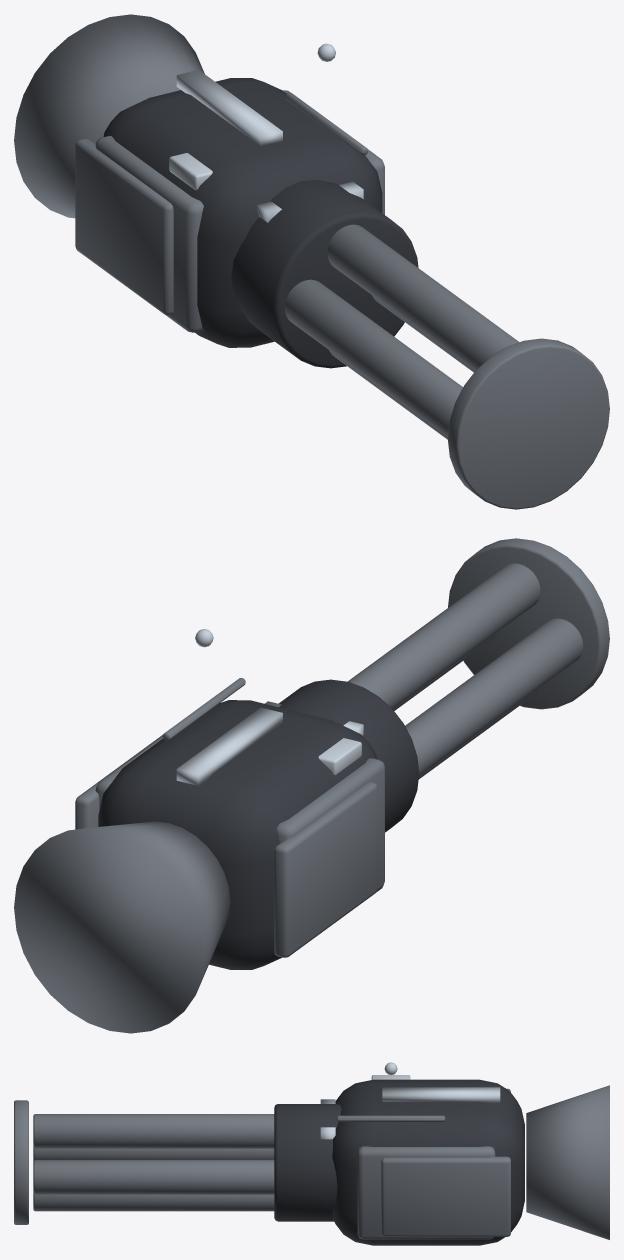
Rendered from weapon_drone_storm_rep.glb.
3 views of the same model, one above another, from view 1: azimuth 30°, elevation 25°; view 2: azimuth 150°, elevation 25°; view 3: azimuth 270°, elevation 25° (orthographic). The views are drawn at different scales.
Parts seen in each view (by area): view 1: weapon_drone_storm_rep; view 2: weapon_drone_storm_rep; view 3: weapon_drone_storm_rep.
Part boxes in pixels (bbox=[...]): weapon_drone_storm_rep: bbox=[14, 14, 609, 509]; weapon_drone_storm_rep: bbox=[14, 538, 609, 1033]; weapon_drone_storm_rep: bbox=[14, 1062, 609, 1245].
Size of the model in its own units: 0.5808 by 0.7068 by 2.
